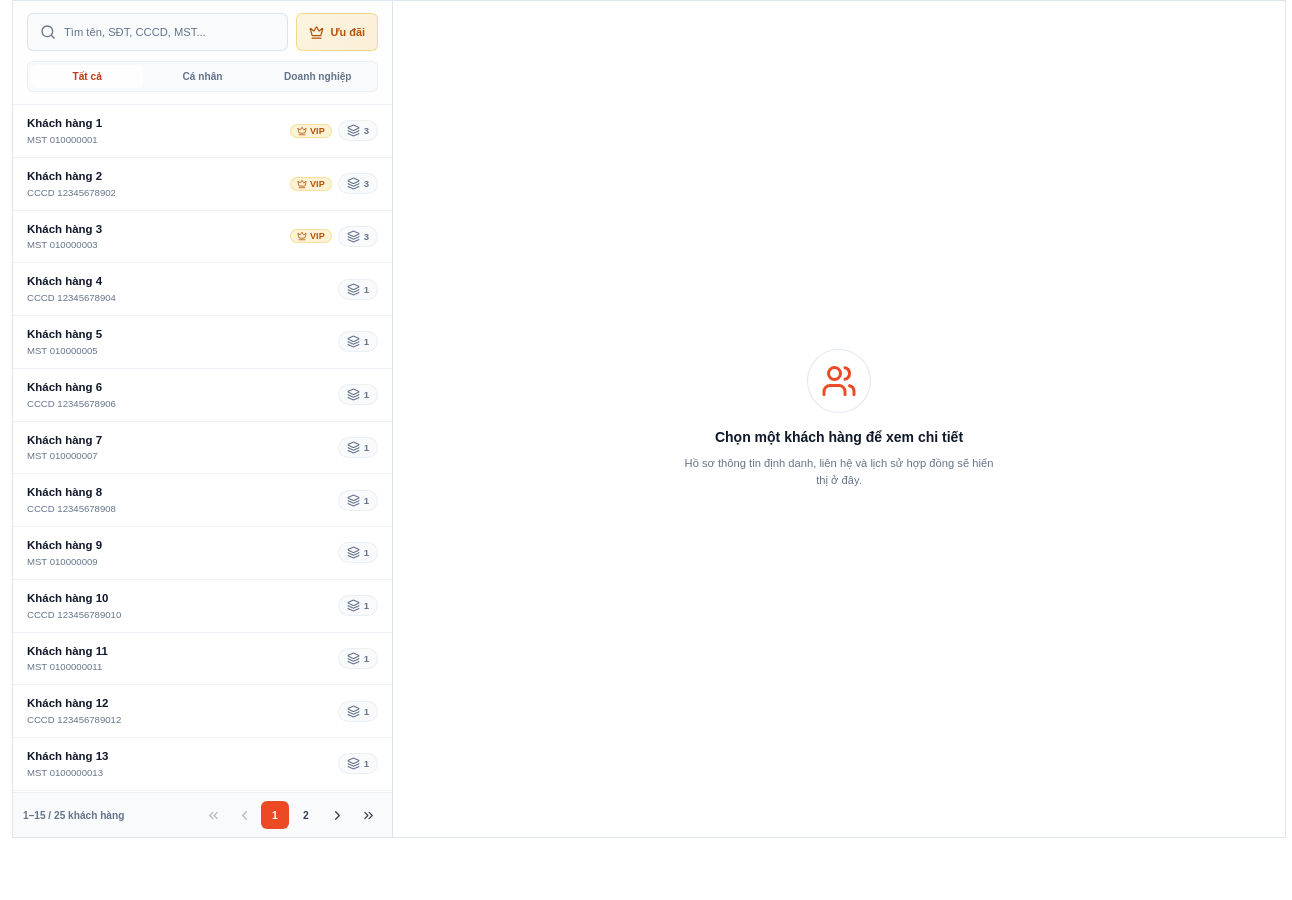
CustomerDirectory with toolbar Loyalty button and pagination › renders customer list paginated with 15 items per page and shows pagination controls
Expected: the text "Khách hàng 1" is shown, [27,117,102,129]
Expected: the text "Khách hàng 16" is not shown
Note: Click page 2
What coordinates should you click on to do the following:
click the button named "Trang 2"
I would click on:
 (306, 815)
Its box is [292,801,320,829].
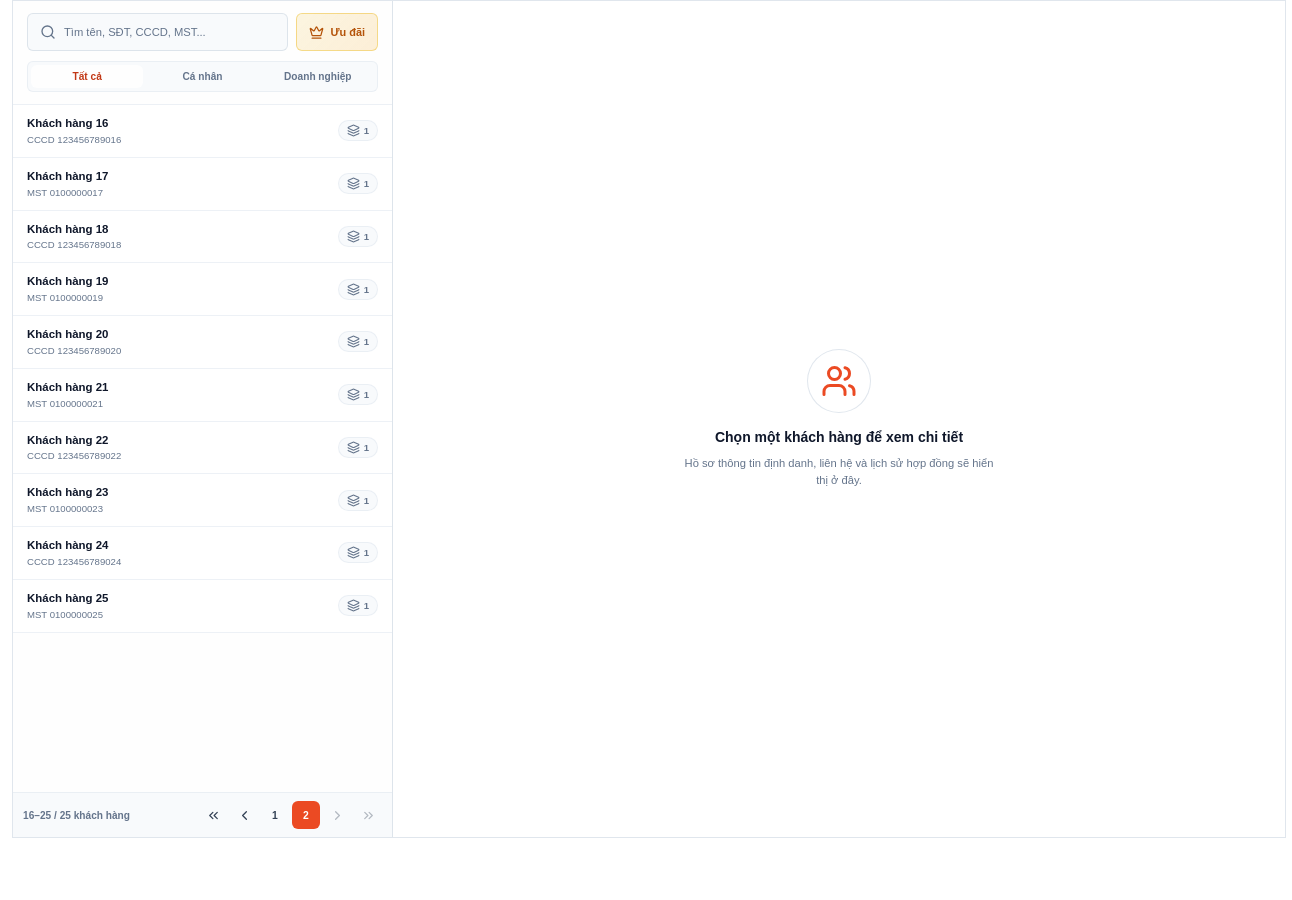
Now the text "Khách hàng 16" is shown, box [27,117,108,129]
Now the text "Khách hàng 25" is shown, box [27,592,108,604]
Now the text "16–25 / 25 khách hàng" is shown, box [23,810,130,820]
